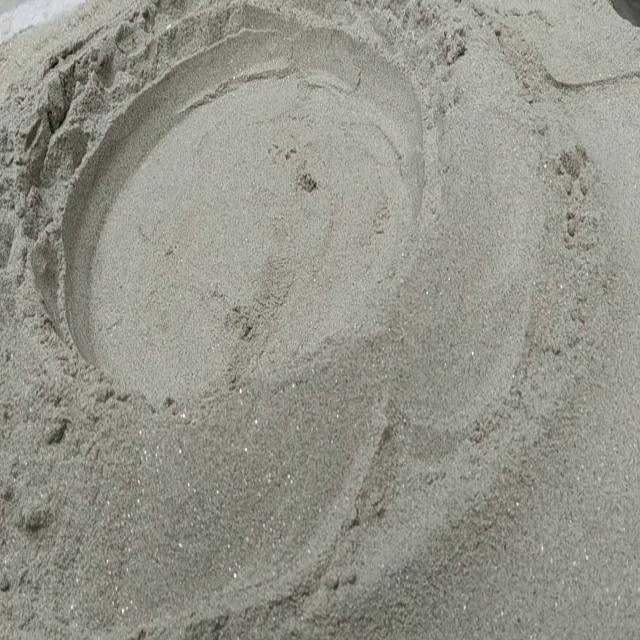C40: (52, 19, 423, 403)
